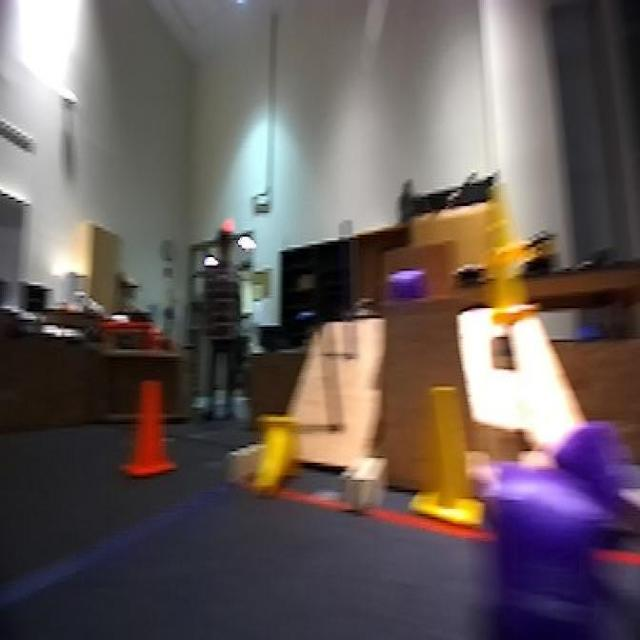frc_cone: (409, 380, 480, 522), (484, 220, 538, 325), (249, 418, 304, 494), (482, 186, 524, 266)
frc_cube: (510, 487, 608, 635), (550, 416, 634, 546), (380, 264, 434, 305)
